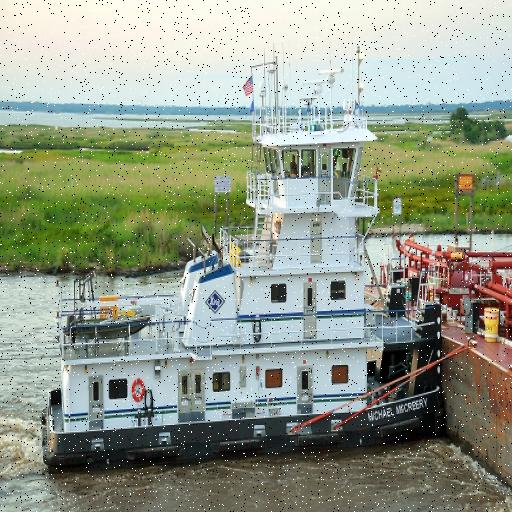tugboat: (41, 65, 447, 479)
